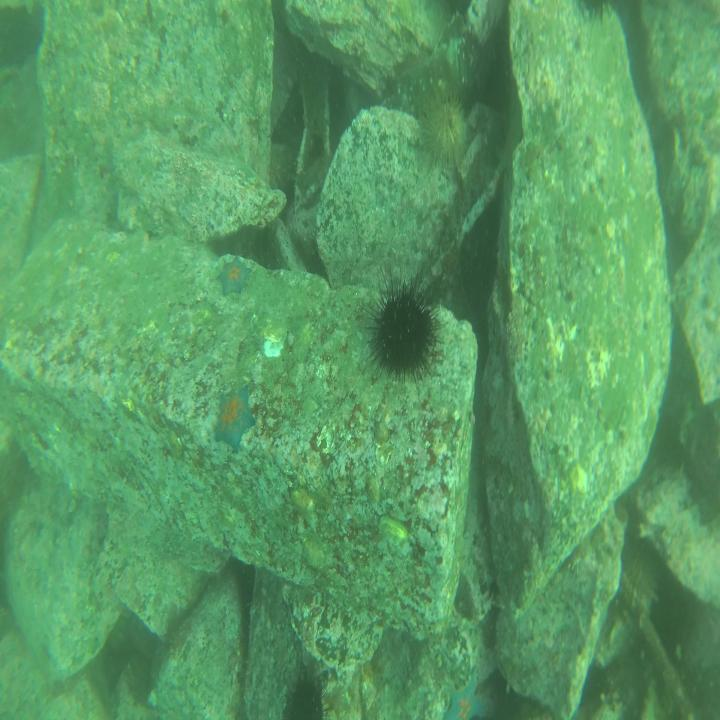echinus: (373, 288, 437, 380), (424, 96, 470, 171), (284, 669, 326, 720)
starfish: (213, 389, 255, 452), (442, 672, 490, 720), (218, 256, 252, 301)
